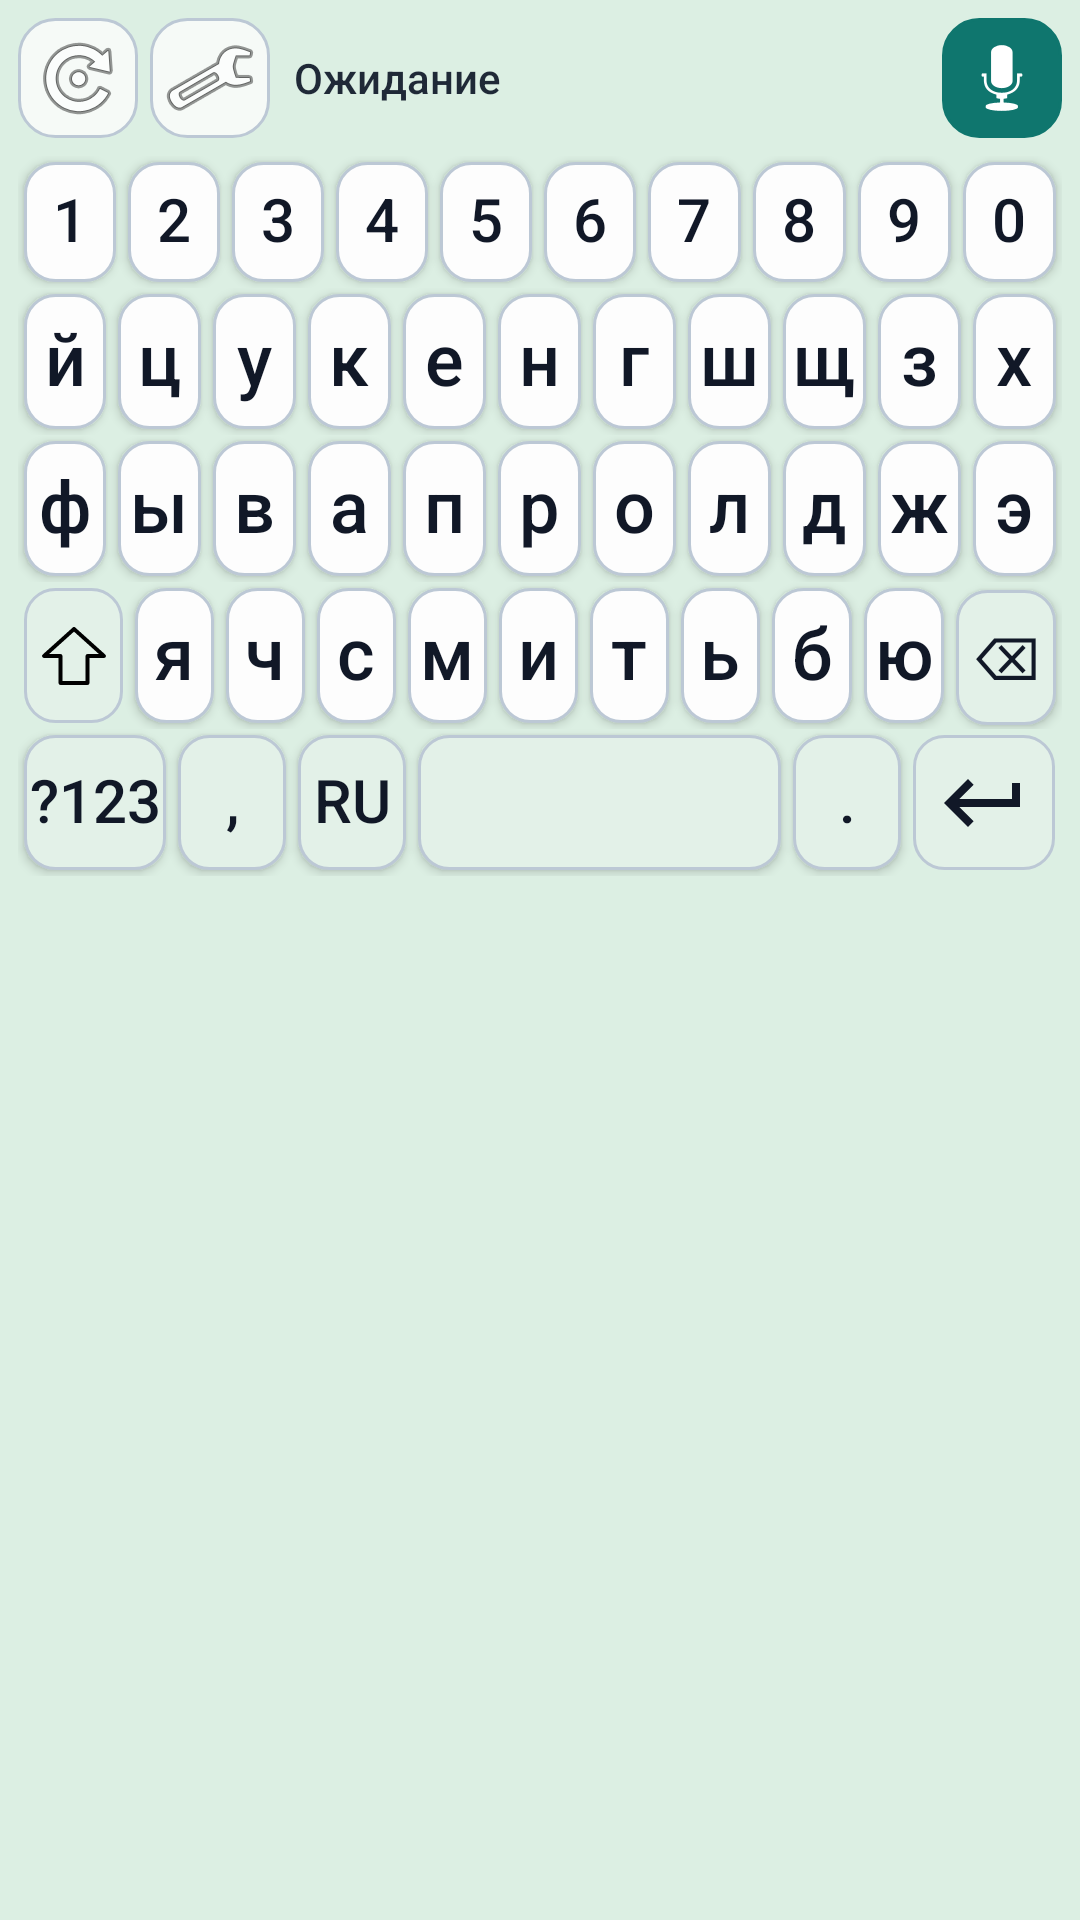

Screen size 1080px×1920px. Icon name, then its box in pixels as bbox=[x1, y1, x2, y2]:
Shift выключен: bbox=[24, 588, 123, 723]
Ввод: bbox=[913, 735, 1055, 870]
Начать запись голоса: bbox=[942, 18, 1062, 138]
Открыть настройки клавиатуры: bbox=[150, 18, 270, 138]
